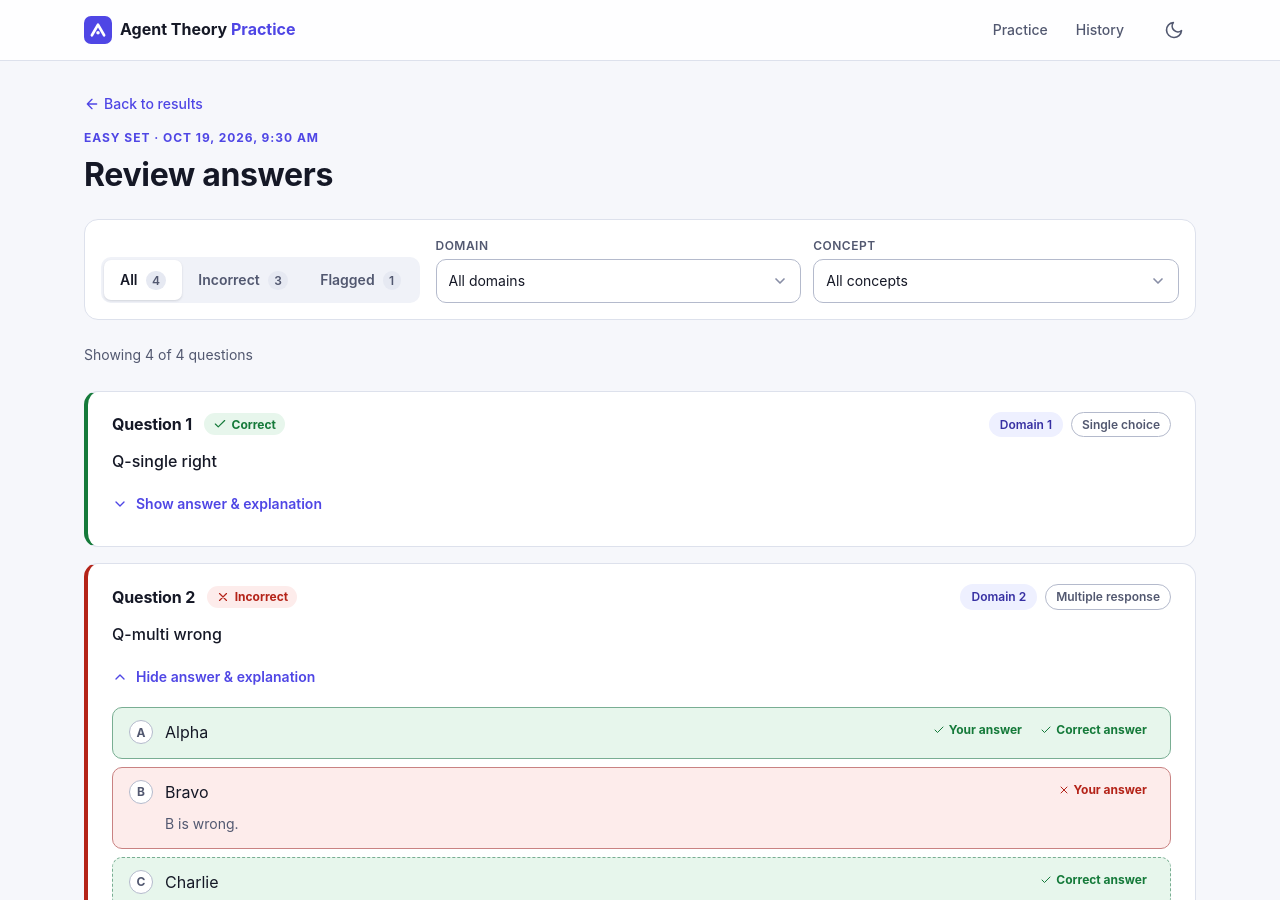
Test: ReviewPage › collapses correct answers by default and expands on request
Click the button "Show answer & explanation" at (217, 504), box [112,482,322,526]
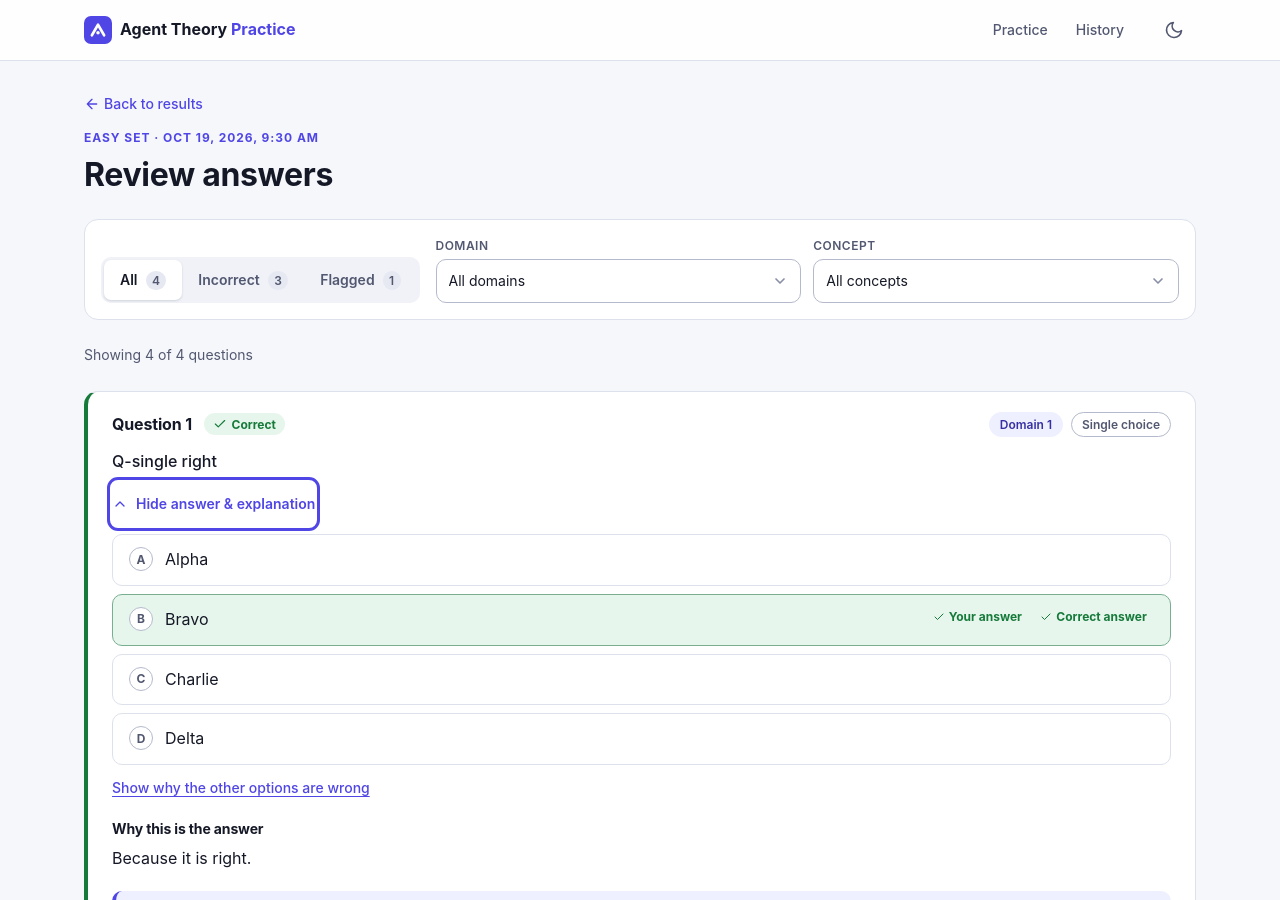
Expected: the button named "show answer & explanation" is expanded, [112,482,315,526]
Expected: the text "Because it is right." is shown, [112,848,251,868]
